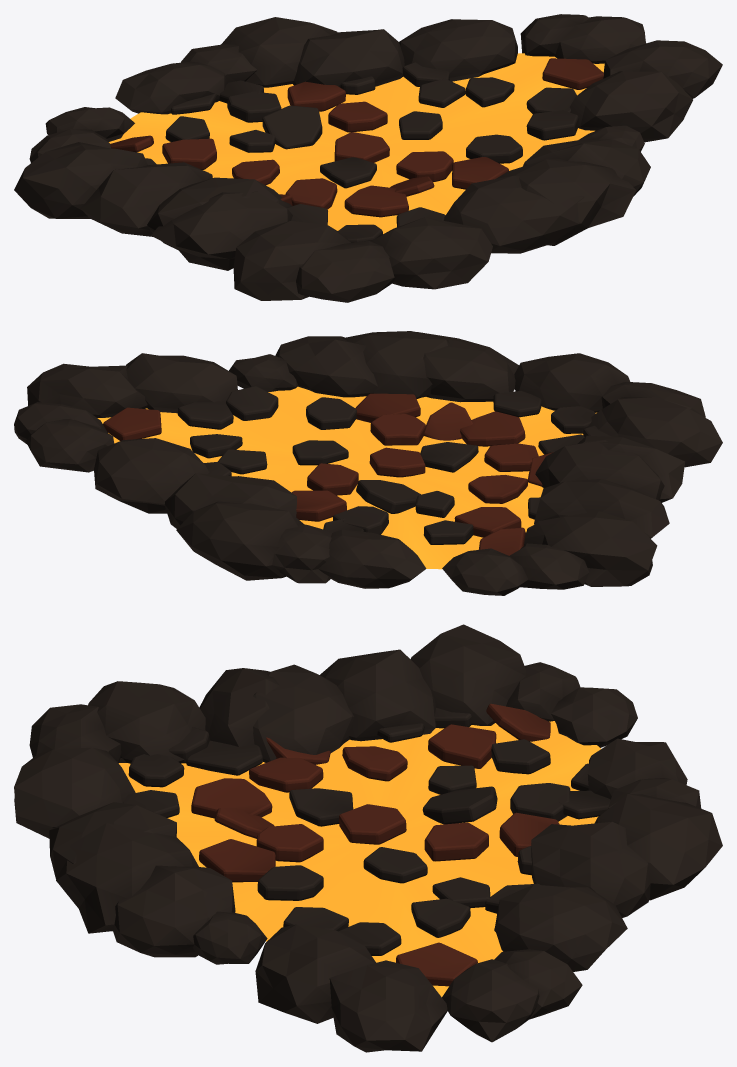
The model's file is lava_pool.glb.
3 views of the same model, one above another, from view 1: azimuth 30°, elevation 25°; view 2: azimuth 150°, elevation 25°; view 3: azimuth 270°, elevation 25° (orthographic). The views are drawn at different scales.
Parts seen in each view (by area): view 1: LavaPool; view 2: LavaPool; view 3: LavaPool.
Part boxes in pixels (x1=…): LavaPool: x1=14, y1=14, x2=722, y2=302; LavaPool: x1=14, y1=331, x2=722, y2=595; LavaPool: x1=14, y1=624, x2=722, y2=1052.
Size of the model in its own units: 3.88 by 0.3729 by 2.95.
